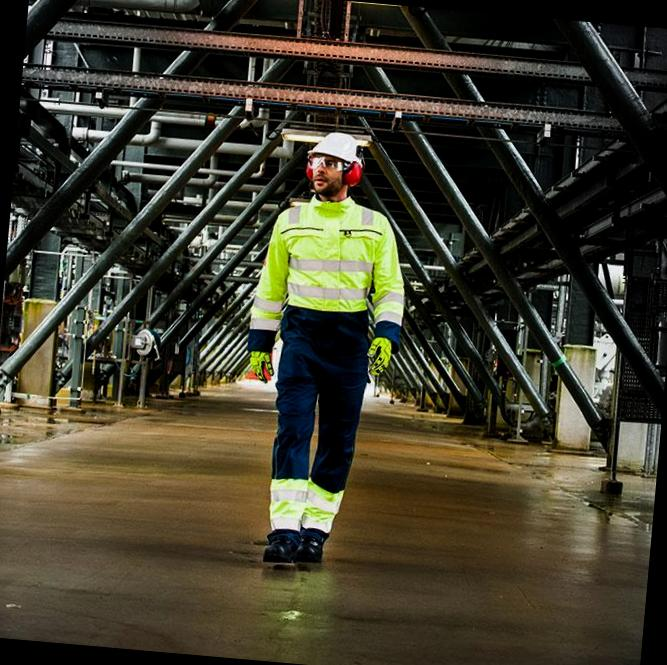helmet: (290, 126, 379, 189)
person: (200, 110, 426, 598)
